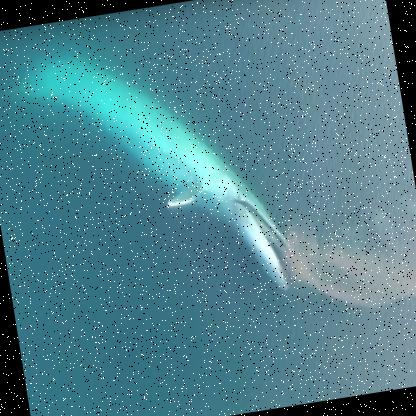blue_whale: (1, 20, 308, 342)
